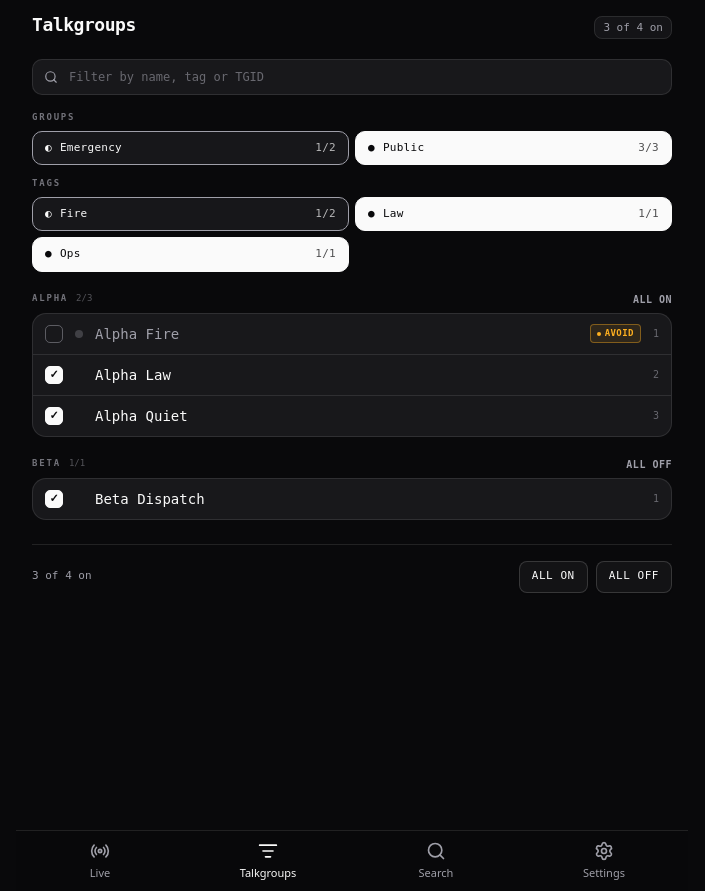
TalkgroupsScreen (#12, spec US 19–22) › avoided Talkgroups › lets every avoided Talkgroup back in on "all on"
Step 1. Click the button with aria-label "Turn everything on" → x=553, y=576, box [519,560,588,592]
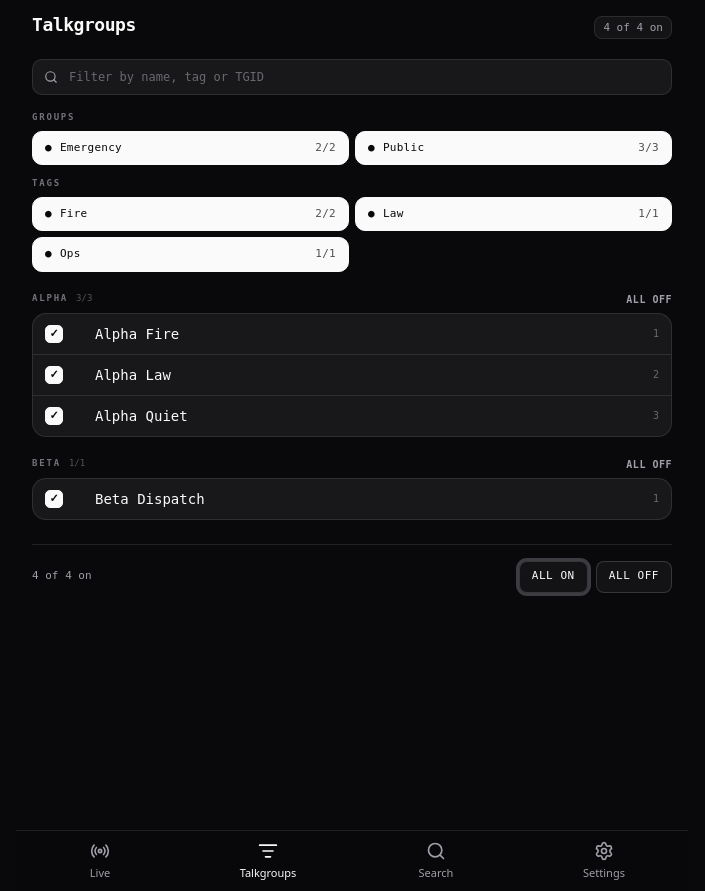
Result: the text with test id "selection-summary" reads "4 of 4 on" at [594,16,672,39]
